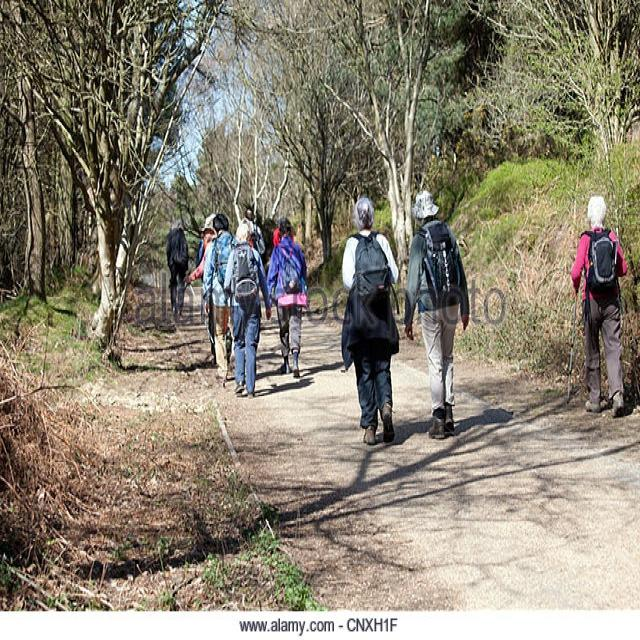body: (399, 184, 472, 439), (337, 191, 404, 450), (570, 194, 629, 419), (222, 222, 273, 400), (265, 217, 309, 379), (223, 346, 347, 402), (201, 211, 240, 382), (394, 402, 516, 446), (181, 210, 219, 288), (164, 217, 190, 317), (255, 210, 294, 276), (244, 207, 266, 256)
